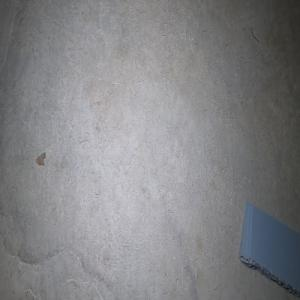PlasticPart: (238, 200, 300, 298)
